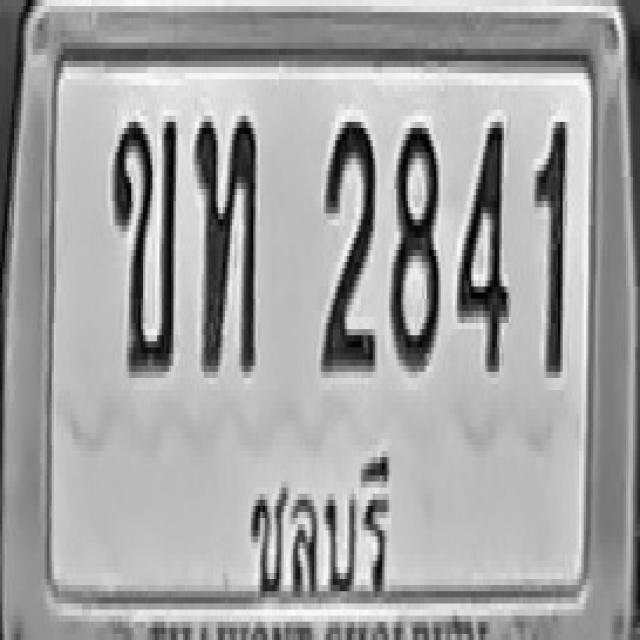1: (532, 119, 567, 375)
11KhorKhai: (111, 116, 177, 372)
2: (320, 116, 376, 372)
32ThorThaHan: (193, 113, 257, 375)
4: (457, 116, 509, 372)
8: (389, 122, 438, 372)
Chonburi: (239, 435, 396, 626)
